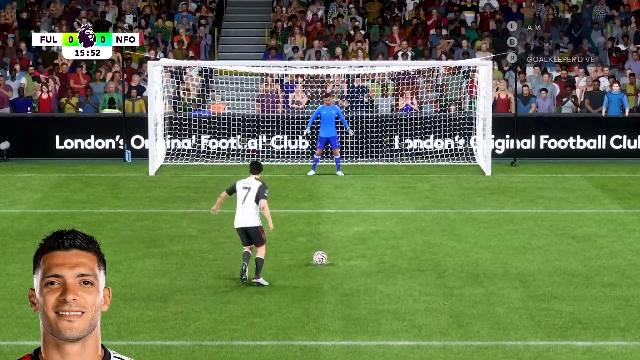bottom-left: (157, 121, 260, 180)
bottom-right: (374, 120, 484, 176)
center-down: (262, 120, 372, 178)
center-up: (262, 68, 372, 120)
football: (310, 246, 332, 266)
goalkeeper: (297, 92, 357, 176)
player: (212, 163, 278, 290)
top-left: (157, 68, 261, 120)
top-right: (374, 68, 484, 119)
